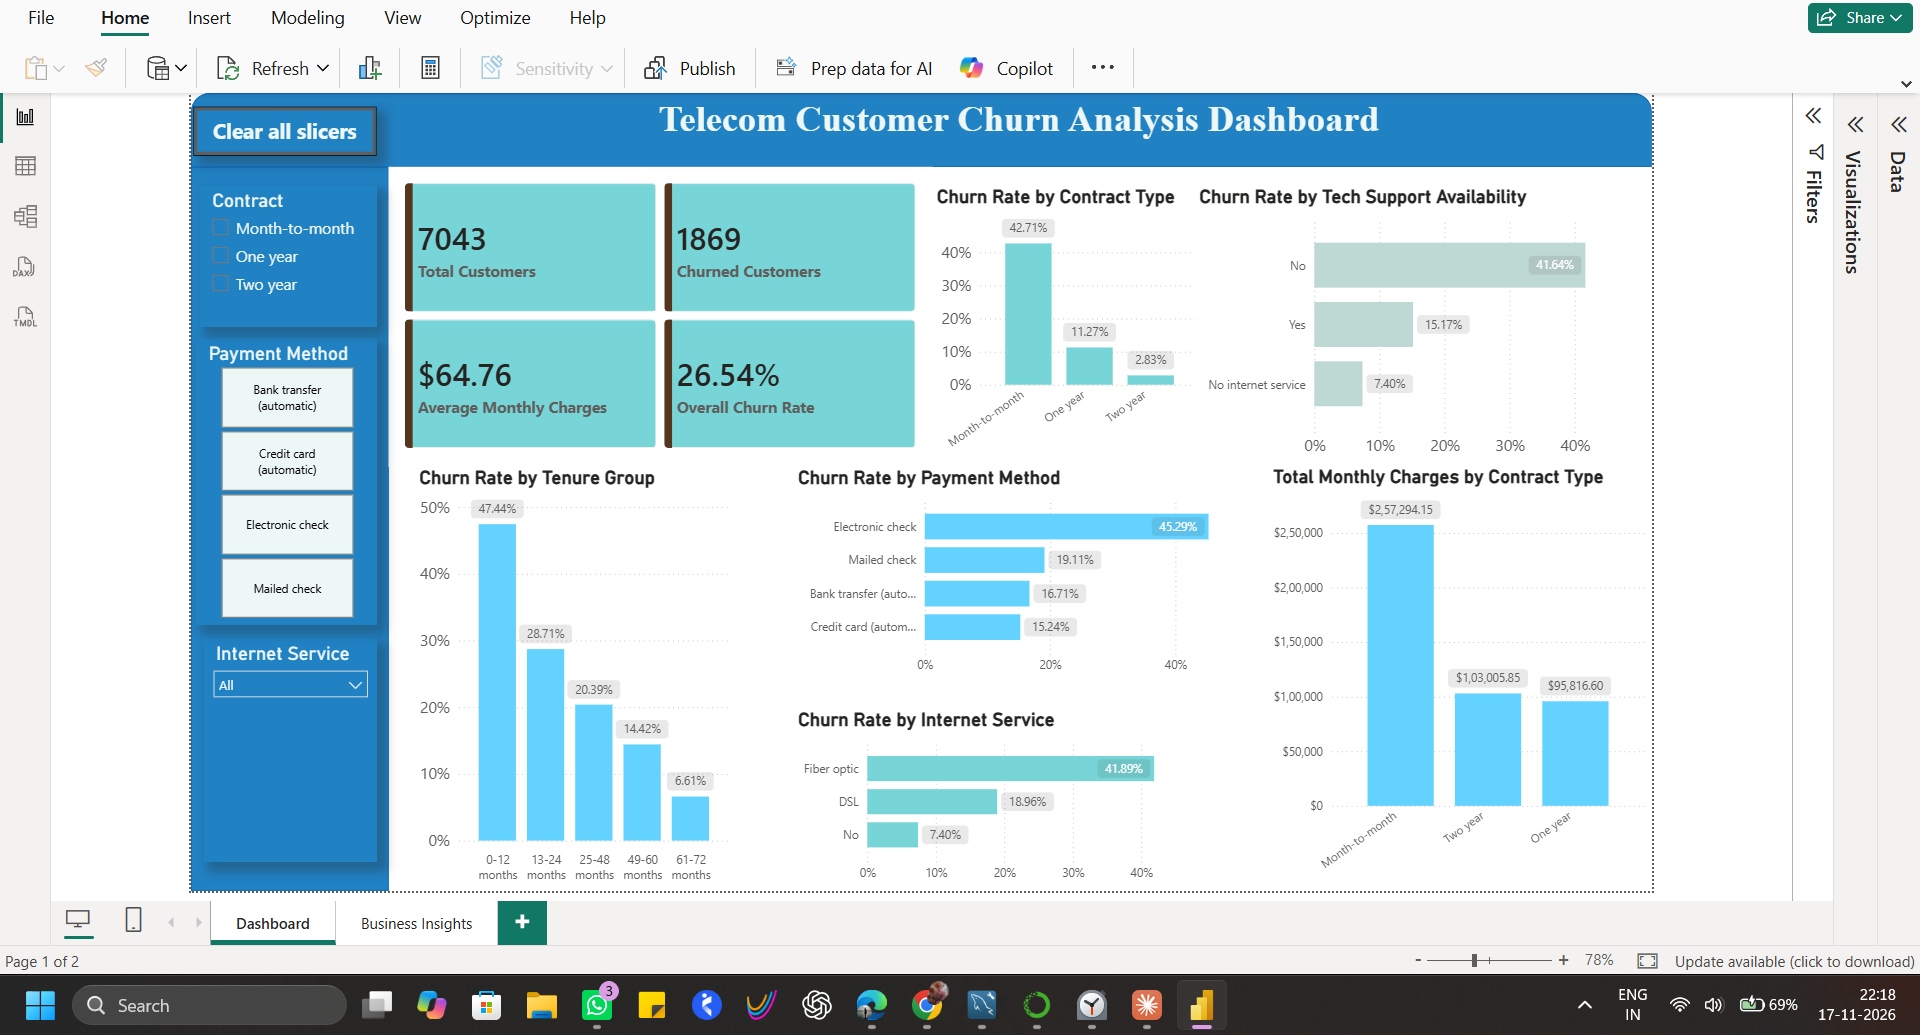

This screenshot's page, from the dashboard's own definition file:
{"tool":"powerbi","page":{"name":"Dashboard","canvas":[1500,820],"ordinal":0},"visuals":[{"type":"shape","box":[0,0,1500.3,76.3],"z":0},{"type":"clusteredColumnChart","title":"Churn Rate by Contract Type","fields":{"Y":["churn_analysis churn.Churn Rate by Contract"],"Category":["churn_analysis churn.Contract"]},"box":[761.2,95,281.1,288.8],"z":1000},{"type":"shape","box":[0,76.3,203,744],"z":2000},{"type":"clusteredColumnChart","title":"Churn Rate by Tenure Group","fields":{"Y":["churn_analysis churn.Churn Rate by Tenure"],"Category":["churn_analysis churn.TenureGroup"]},"box":[229.8,383.8,328.6,435.2],"z":3000},{"type":"cardVisual","fields":{"Data":["churn_analysis churn.Total Customers","churn_analysis churn.Churned Customers","churn_analysis churn.Average Monthly Charges","churn_analysis churn.Churn Rate by Tenure"]},"box":[203,76.3,558.7,308],"z":4000},{"type":"clusteredBarChart","title":"Churn Rate by Payment Method","fields":{"Y":["churn_analysis churn.Churn Rate"],"Category":["churn_analysis churn.PaymentMethod"]},"box":[618.7,383.8,487.8,222.1],"z":5000},{"type":"clusteredBarChart","title":"Churn Rate by Internet Service","fields":{"Y":["churn_analysis churn.Churn Rate"],"Category":["churn_analysis churn.InternetService"]},"box":[618.7,632.8,435.2,186.1],"z":6000},{"type":"clusteredBarChart","title":"Churn Rate by Tech Support Availability","fields":{"Y":["churn_analysis churn.Churn Rate"],"Category":["churn_analysis churn.TechSupport"]},"box":[1030.8,95,469.8,288.8],"z":7000},{"type":"clusteredColumnChart","title":"Total Monthly Charges by Contract Type","fields":{"Category":["churn_analysis churn.Contract"],"Y":["Sum(churn_analysis churn.MonthlyCharges)"]},"box":[1106.5,382.5,394.1,437.7],"z":8000},{"type":"slicer","fields":{"Values":["churn_analysis churn.Contract"]},"box":[9.5,95.4,181.2,144.4],"z":9000},{"type":"slicer","fields":{"Values":["churn_analysis churn.PaymentMethod"]},"box":[5.5,252.1,185.3,294.3],"z":10000},{"type":"slicer","fields":{"Values":["churn_analysis churn.InternetService"]},"box":[12.3,560,178.5,230.3],"z":11000},{"type":"actionButton","box":[2.7,13.6,188,50.4],"z":13000},{"type":"textbox","box":[230.3,0,1241.4,76.3],"z":13500}]}

Visuals, with their boxes on the page's 1500x820 design canvas (x1, y1, x2, y2). These are canvas units, not pixel positions in the 1920x1035 screenshot, which may show the page scaled, cropped or inside an application window:
shape: {"x1": 0, "y1": 0, "x2": 1500, "y2": 76}
"Churn Rate by Contract Type" clusteredColumnChart: {"x1": 761, "y1": 95, "x2": 1042, "y2": 384}
shape: {"x1": 0, "y1": 76, "x2": 203, "y2": 820}
"Churn Rate by Tenure Group" clusteredColumnChart: {"x1": 230, "y1": 384, "x2": 558, "y2": 819}
cardVisual - churn_analysis churn.Total Customers x churn_analysis churn.Churned Customers: {"x1": 203, "y1": 76, "x2": 762, "y2": 384}
"Churn Rate by Payment Method" clusteredBarChart: {"x1": 619, "y1": 384, "x2": 1106, "y2": 606}
"Churn Rate by Internet Service" clusteredBarChart: {"x1": 619, "y1": 633, "x2": 1054, "y2": 819}
"Churn Rate by Tech Support Availability" clusteredBarChart: {"x1": 1031, "y1": 95, "x2": 1501, "y2": 384}
"Total Monthly Charges by Contract Type" clusteredColumnChart: {"x1": 1106, "y1": 382, "x2": 1501, "y2": 820}
slicer - churn_analysis churn.Contract: {"x1": 10, "y1": 95, "x2": 191, "y2": 240}
slicer - churn_analysis churn.PaymentMethod: {"x1": 6, "y1": 252, "x2": 191, "y2": 546}
slicer - churn_analysis churn.InternetService: {"x1": 12, "y1": 560, "x2": 191, "y2": 790}
actionButton: {"x1": 3, "y1": 14, "x2": 191, "y2": 64}
textbox: {"x1": 230, "y1": 0, "x2": 1472, "y2": 76}
